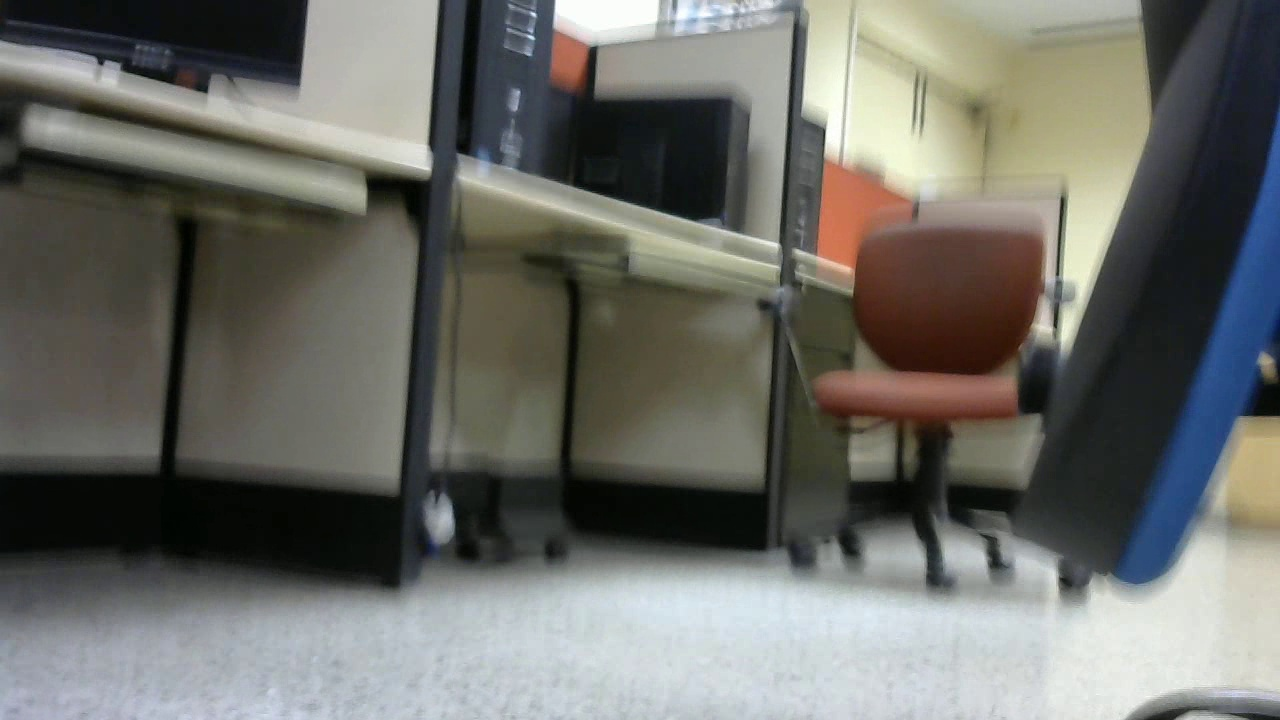chair: (262, 1, 677, 639)
